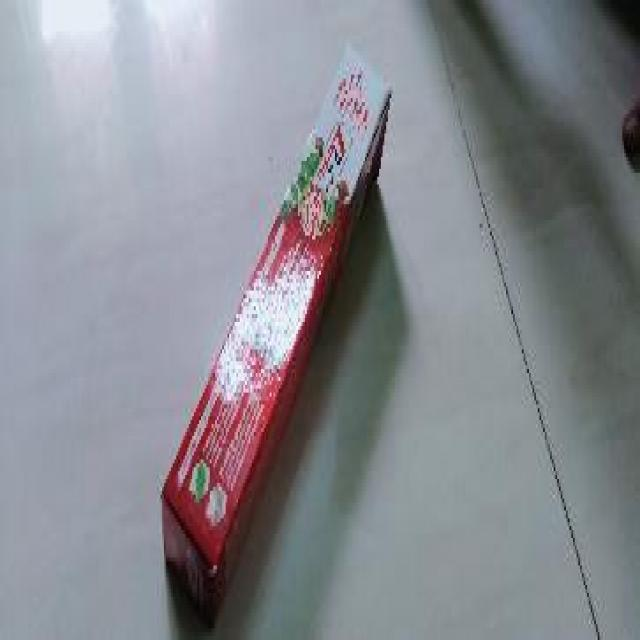tooth paste: (148, 32, 391, 618)
